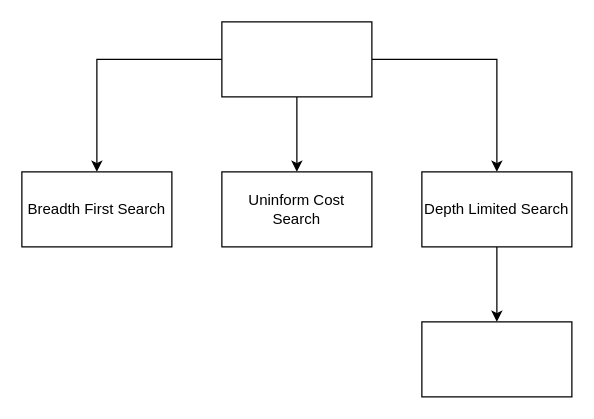
The diagram is 594 pixels wide and 419 high, and some of its shapes have lost their labels. Each missing label, with the centre of its shape:
"Depth Iterative Search" belongs at pixel 496 359.
"Uninformed Search" belongs at pixel 296 59.
